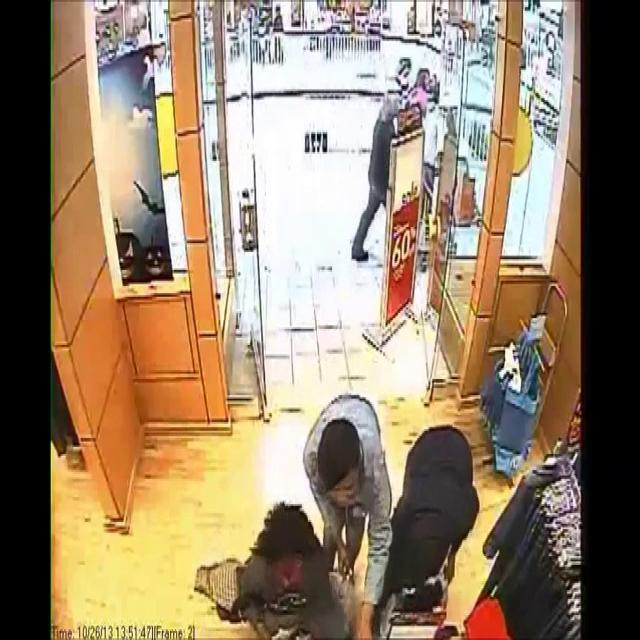normal: (291, 376, 389, 528), (356, 68, 406, 279)
shoplifting: (364, 418, 477, 640), (227, 476, 333, 640)
